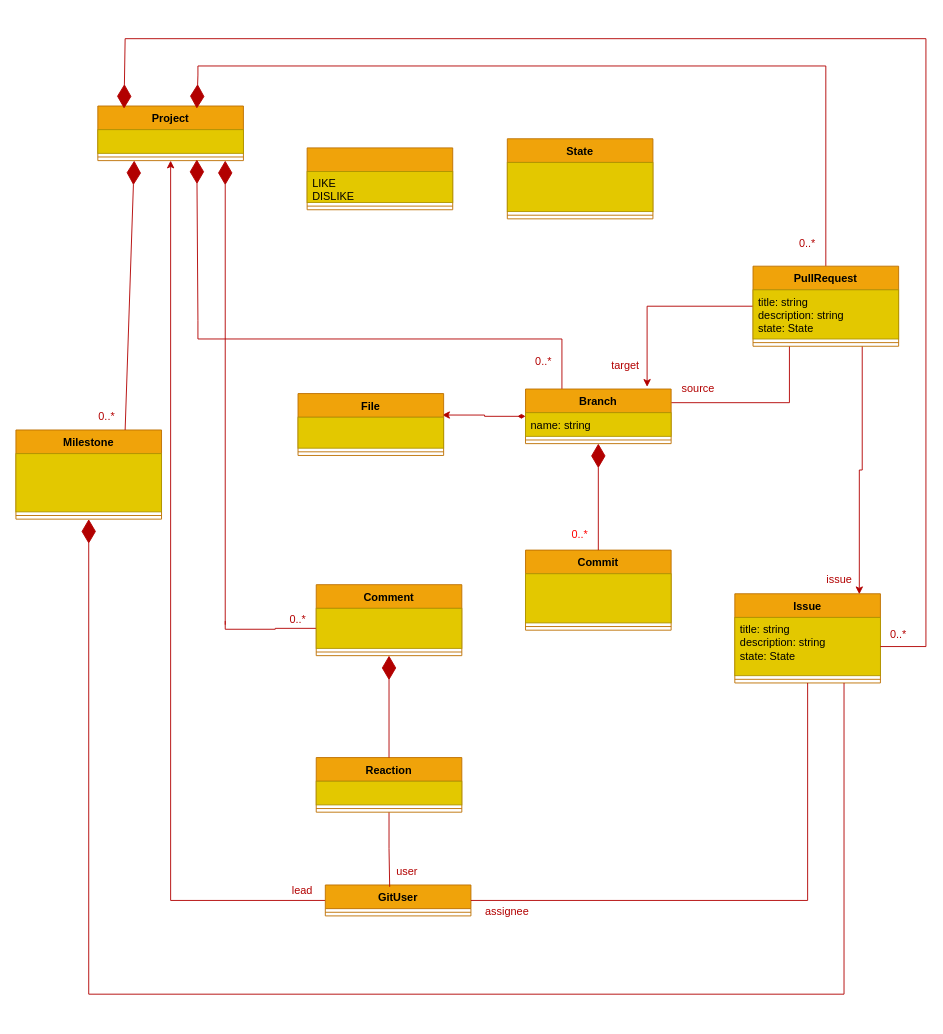
The diagram is 943 pixels wide and 1034 high, and some of its shapes have lost their labels. The shapes that lost their labels are listed below. From the top down, each one's box as (x1, y1, x2, y2) in pixels, then its label:
(97, 129, 243, 153): title: string
(306, 147, 453, 210): ReactionType
(506, 162, 653, 212): OPEN CLOSED MERGED
(297, 416, 444, 448): title: string text: string
(15, 453, 162, 512): title: string description: string due_date: Date state: State
(525, 573, 671, 623): date_time: DateTime log_message: string commiter: string
(315, 607, 462, 648): text: string last_update: Date
(315, 780, 462, 805): type: ReactionType
